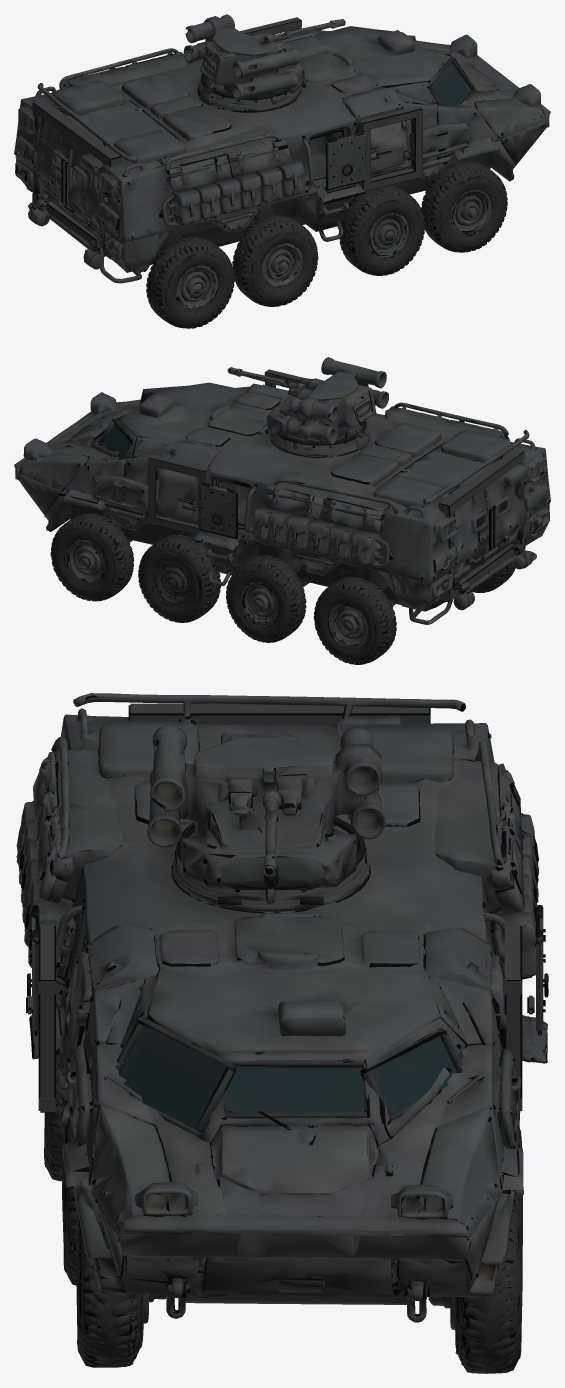
File: apc.glb
The picture shows the model from 3 angles, top to bottom: view 1: azimuth 30°, elevation 25°; view 2: azimuth 150°, elevation 25°; view 3: azimuth 270°, elevation 25°; orthographic projection. The views are drawn at different scales.
Visible parts, largest first — view 1: APC; view 2: APC; view 3: APC.
Part boxes in pixels (x1,y1,x2,y2): APC: [14, 14, 550, 328]; APC: [14, 357, 550, 664]; APC: [16, 693, 548, 1373].
Bounding box in the file's own units: 2 × 0.9467 × 1.04.
1 material, 1 textured.
